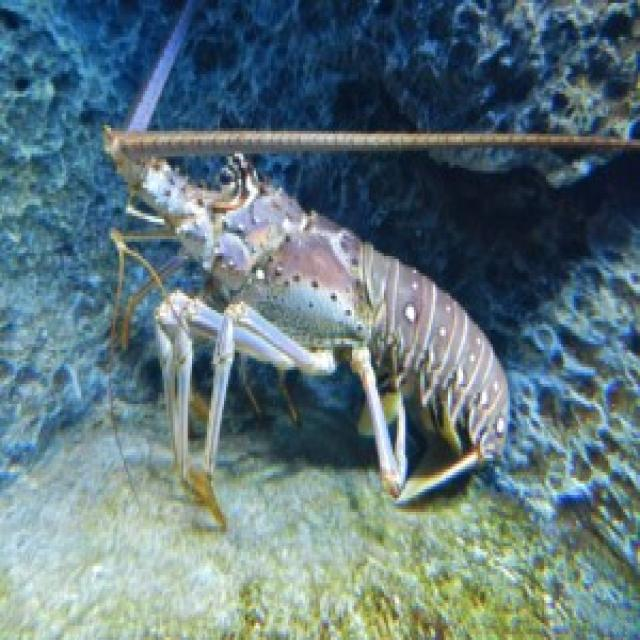lobsters: (16, 68, 616, 553)
